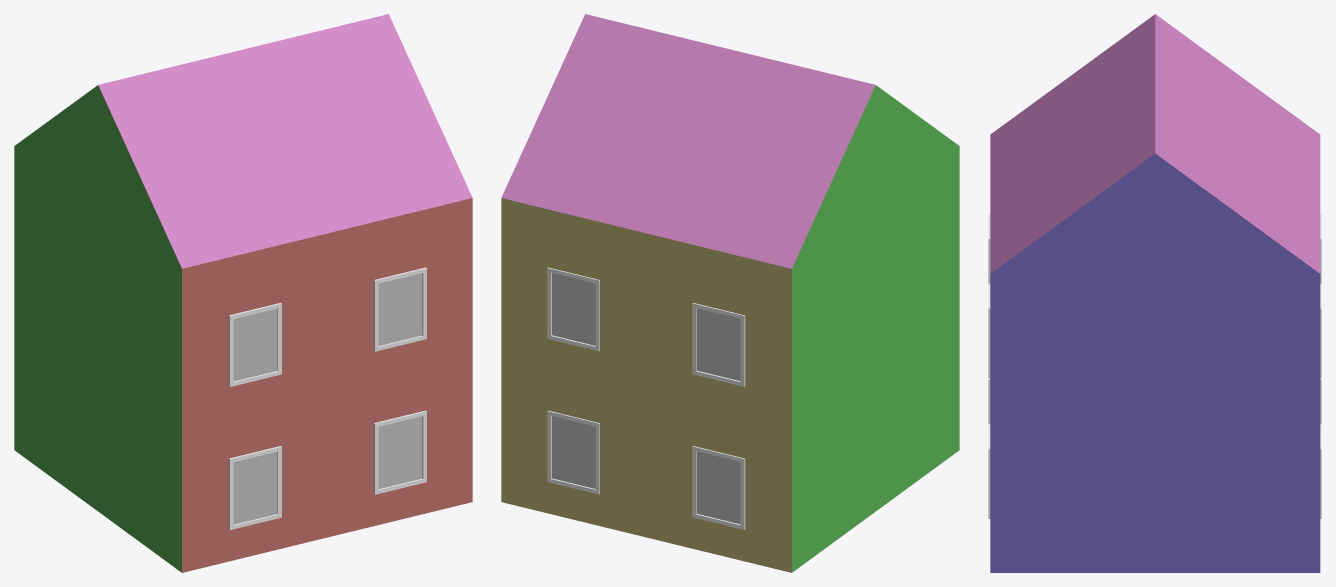
Rendered from hw1_room.fbx.
3 renders of one model, left to right at view 1: azimuth 30°, elevation 25°; view 2: azimuth 150°, elevation 25°; view 3: azimuth 270°, elevation 25°, orthographic.
Parts seen in each view (by area): view 1: House, WindowFrame.002, WindowFrame.001, WindowFrame.003, WindowFrame; view 2: House, WindowFrame.005, WindowFrame.006, WindowFrame.007, WindowFrame.004; view 3: House.
Boxes of the visible parts, left/top/right/bottom form: House: left=14, top=14, right=472, bottom=572; WindowFrame.002: left=228, top=303, right=281, bottom=386; WindowFrame.001: left=228, top=446, right=281, bottom=529; WindowFrame.003: left=374, top=267, right=426, bottom=351; WindowFrame: left=374, top=410, right=426, bottom=494; House: left=501, top=14, right=959, bottom=572; WindowFrame.005: left=692, top=303, right=745, bottom=386; WindowFrame.006: left=692, top=446, right=745, bottom=529; WindowFrame.007: left=547, top=410, right=599, bottom=494; WindowFrame.004: left=547, top=267, right=599, bottom=351; House: left=990, top=14, right=1320, bottom=572.
Size of the model in its own units: 1500 by 2105 by 1516.
